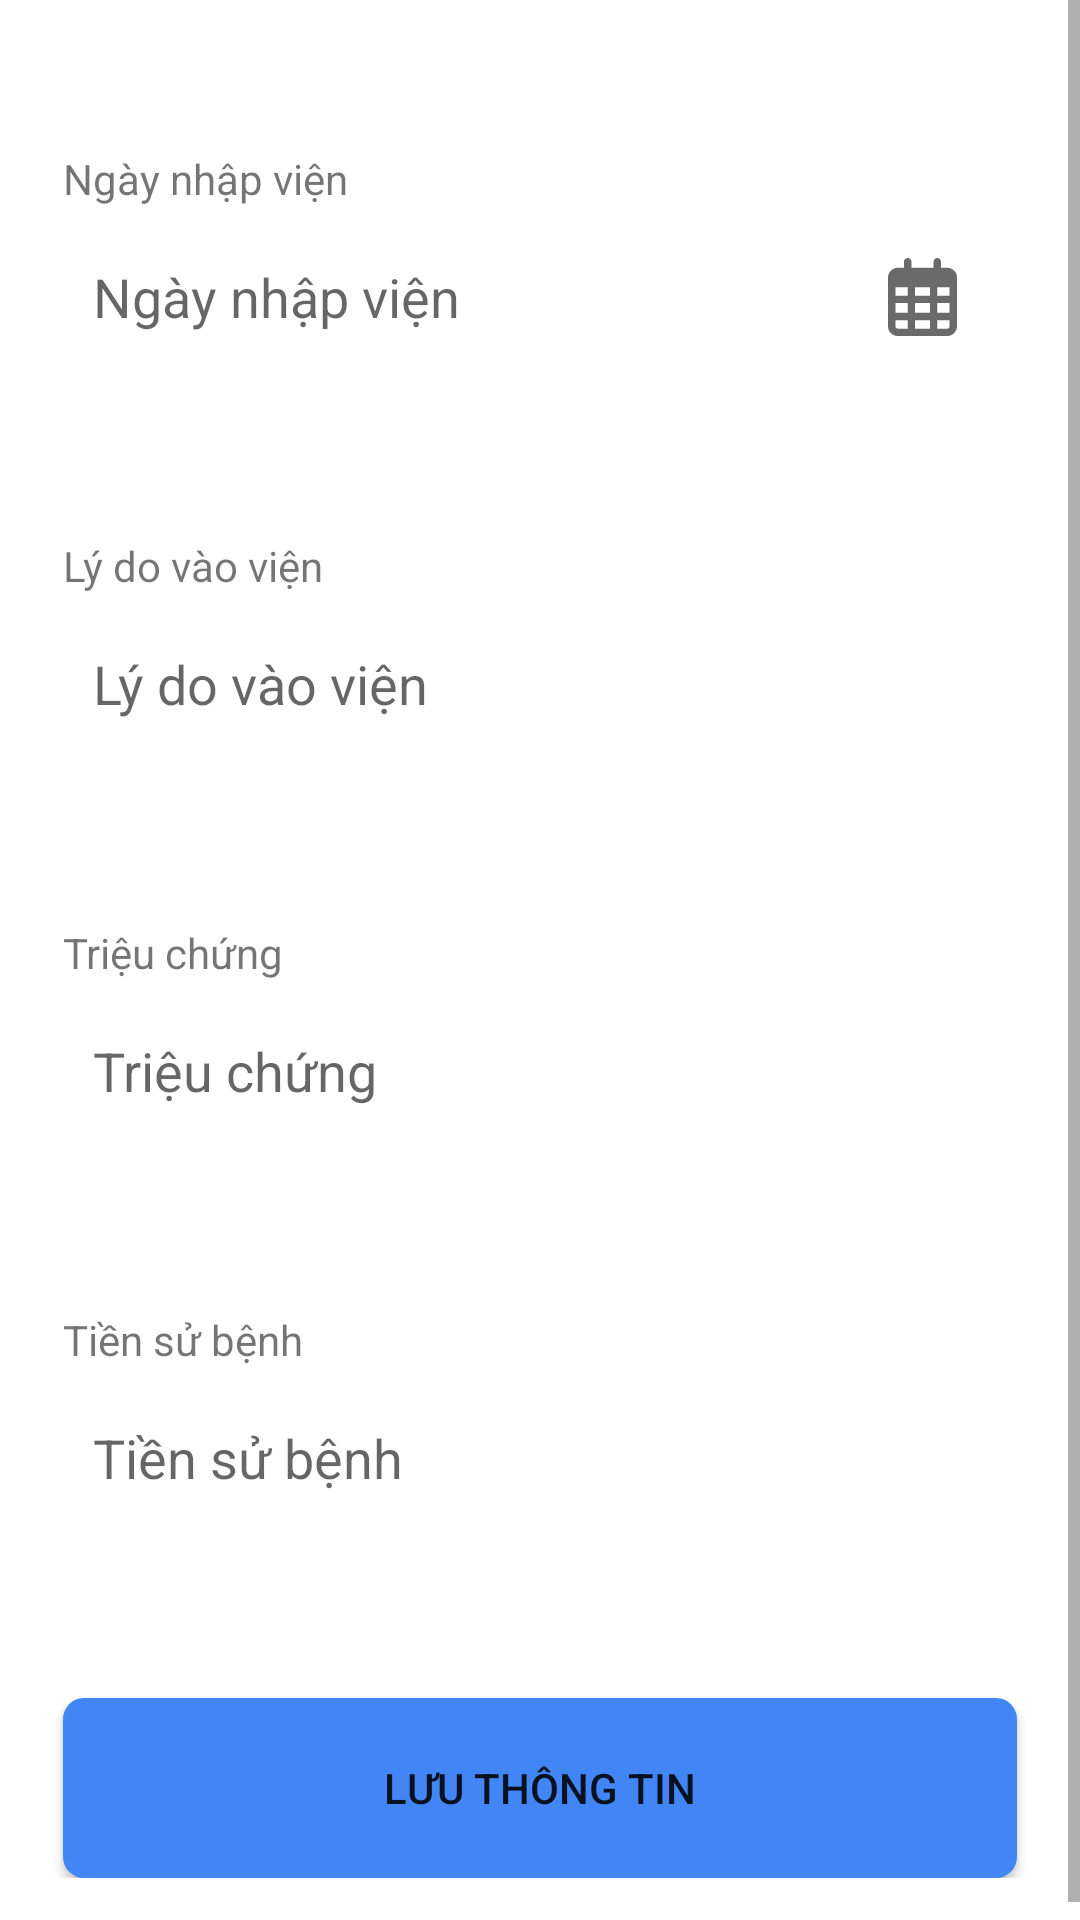

Locate icon controls on the screen. Image size 1080w x 1920h, boxes as box(x1, y1, x2, y2).
calendar: box(888, 258, 957, 336)
